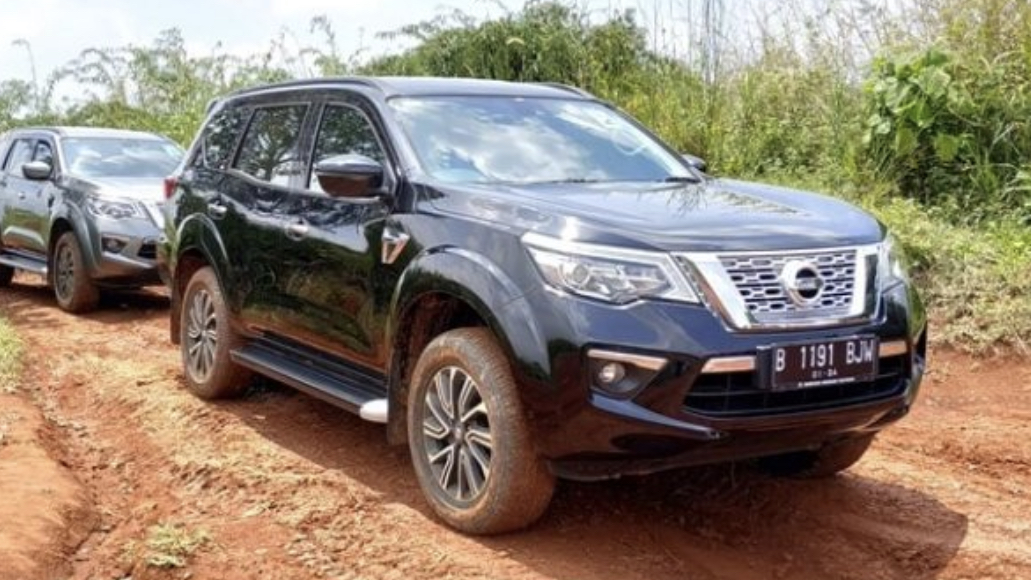Mobil: (754, 324, 927, 406)
Motor: (153, 69, 963, 537), (5, 111, 175, 300)
